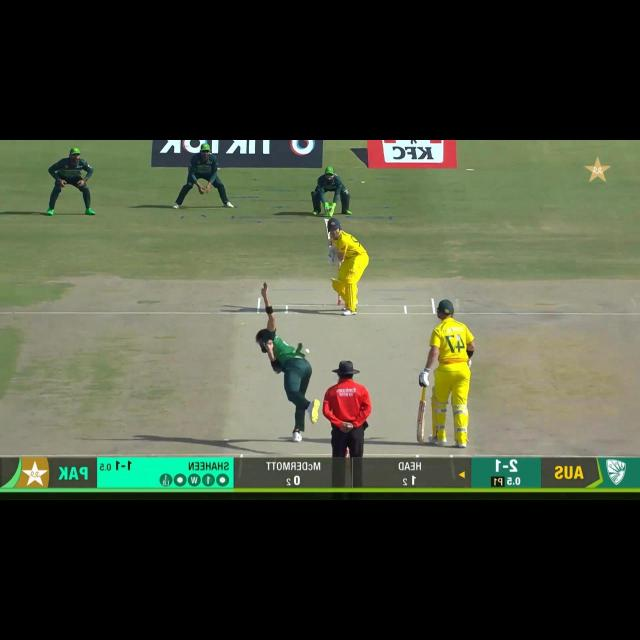bat: (415, 398, 426, 444), (323, 217, 336, 242)
toe: (415, 432, 427, 443), (324, 218, 330, 225)
